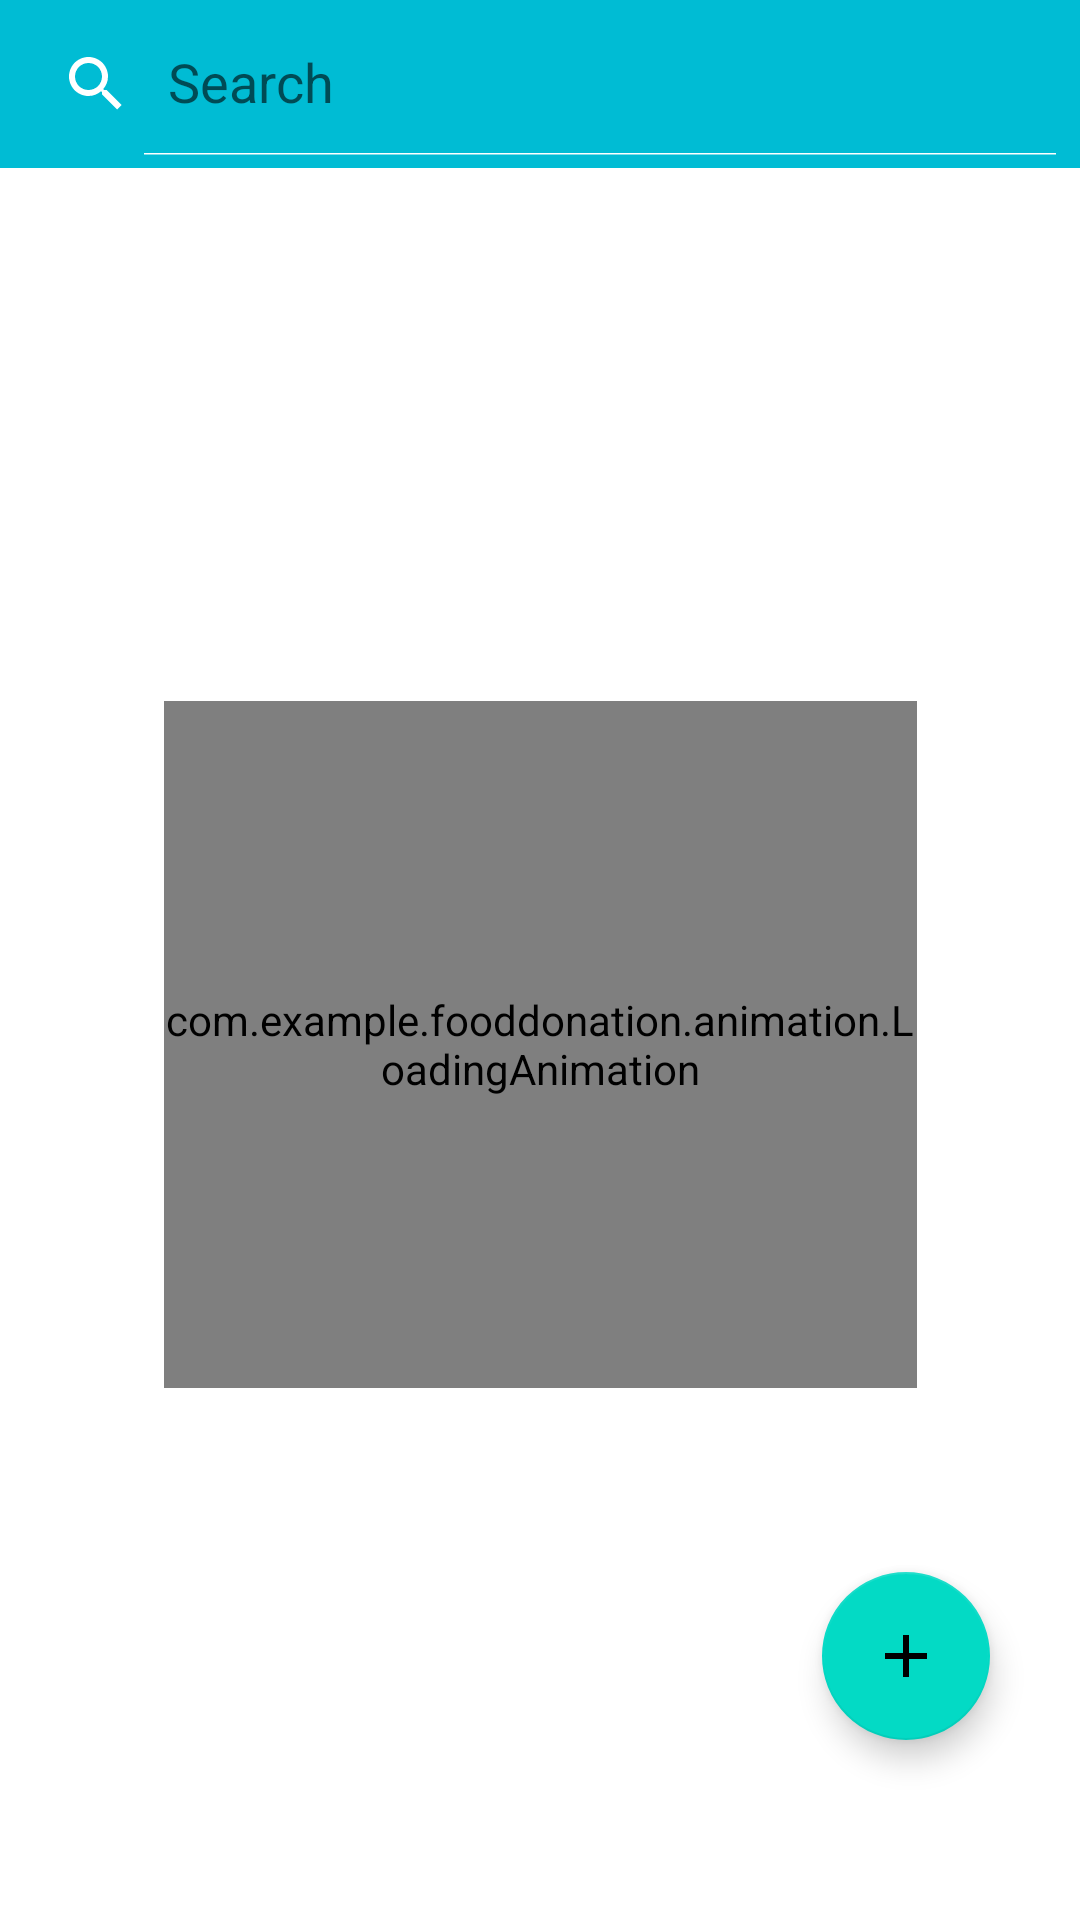

Screen size 1080w x 1920h. Icon name, then its center in pixels as point (x, y):
add: point (906, 1656)
